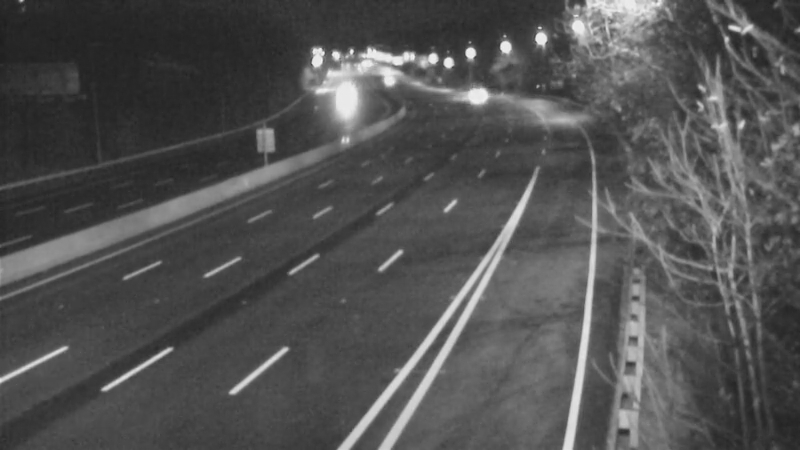vehicle: (362, 56, 412, 106), (452, 69, 502, 119), (316, 73, 366, 123)
